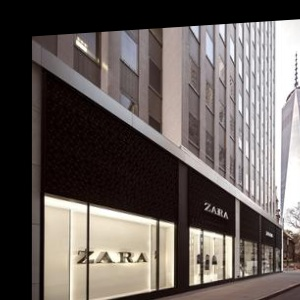zara: (155, 125, 300, 300), (95, 110, 220, 300)
